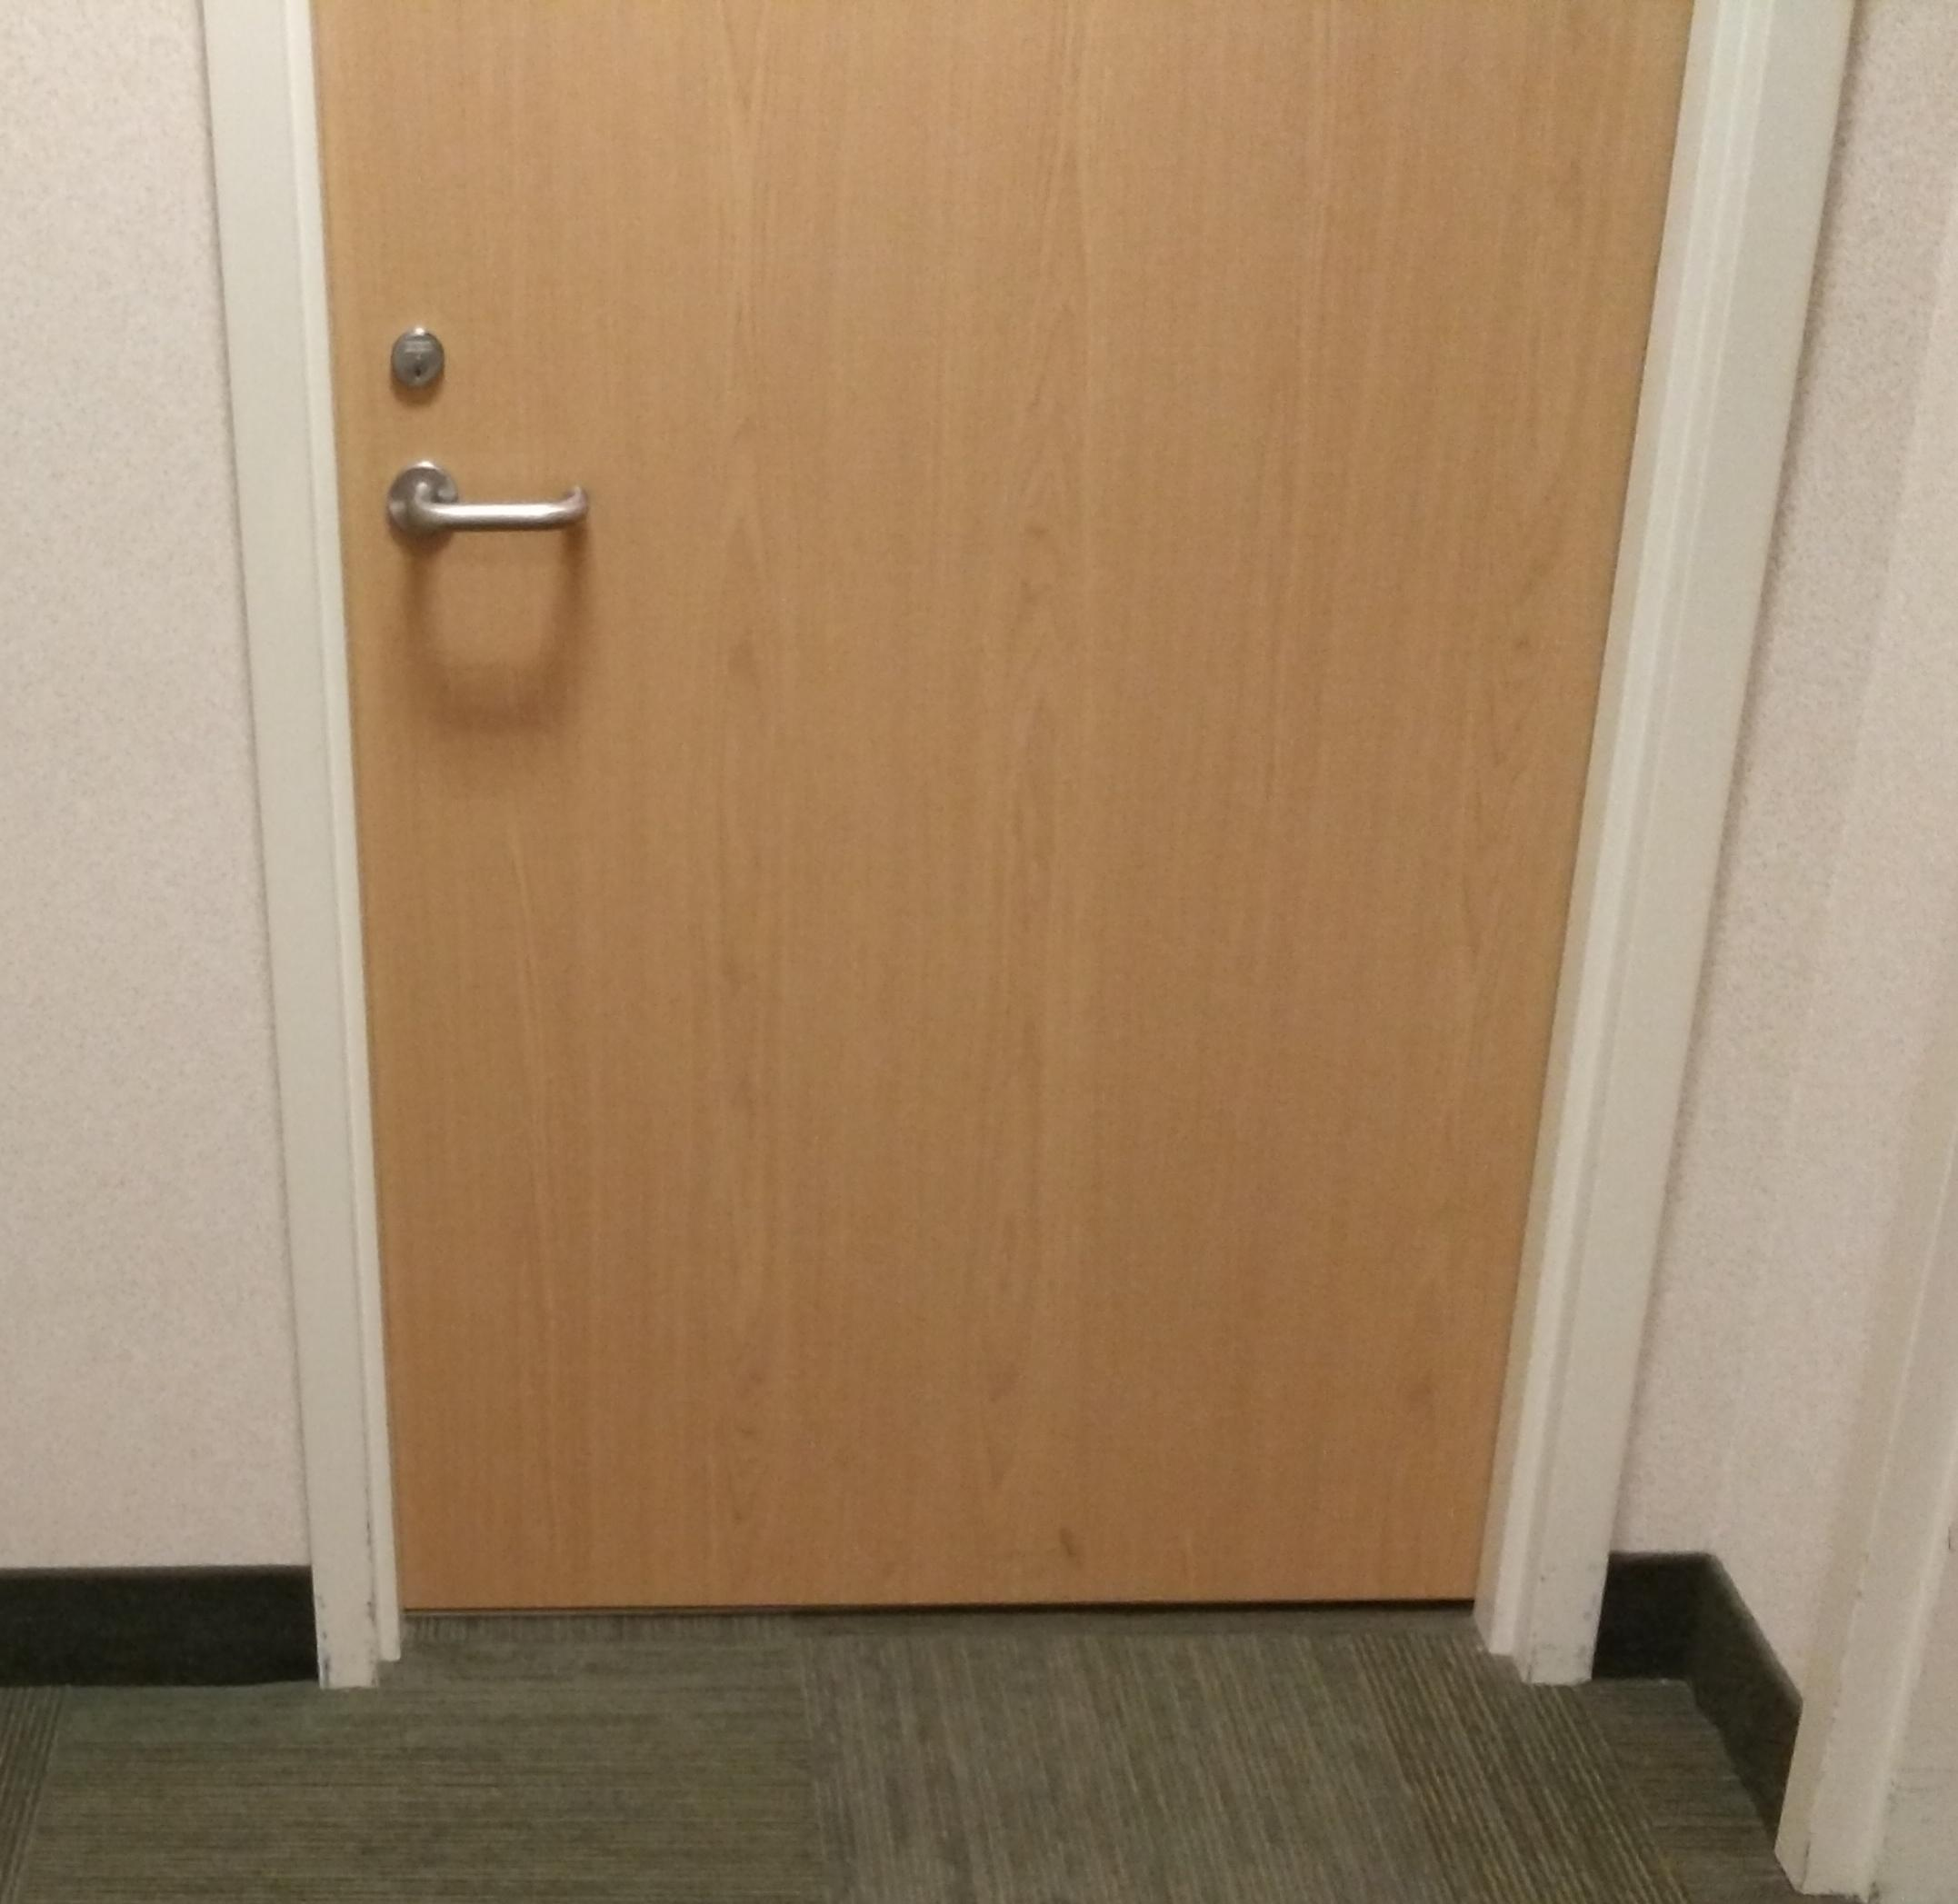door: (287, 2, 1589, 1647)
